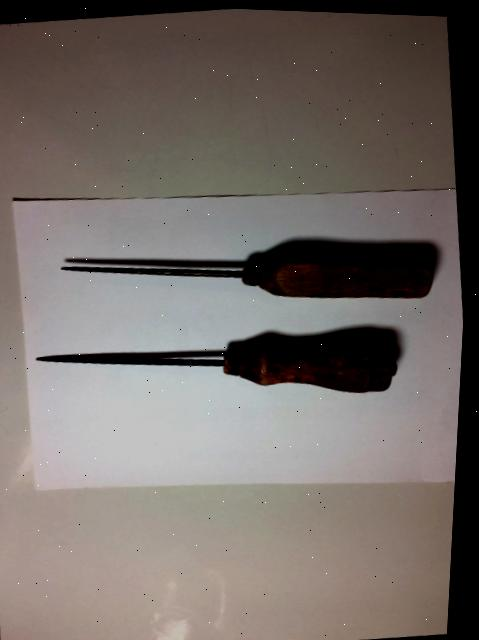ice pick: (59, 224, 443, 330), (37, 319, 407, 424)
